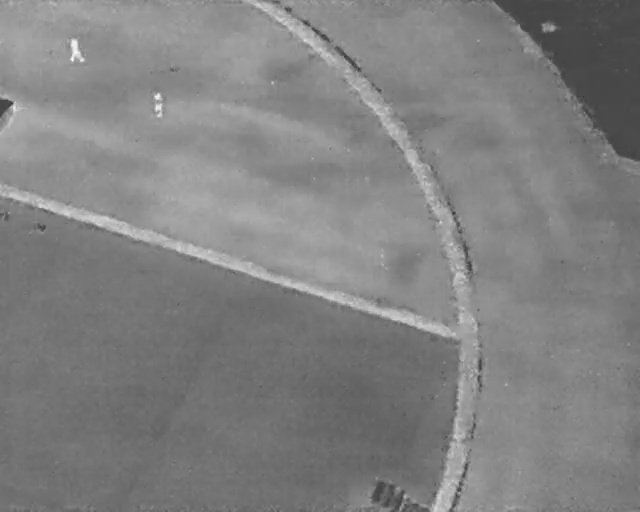Person: (66, 34, 87, 66), (148, 90, 167, 117)
